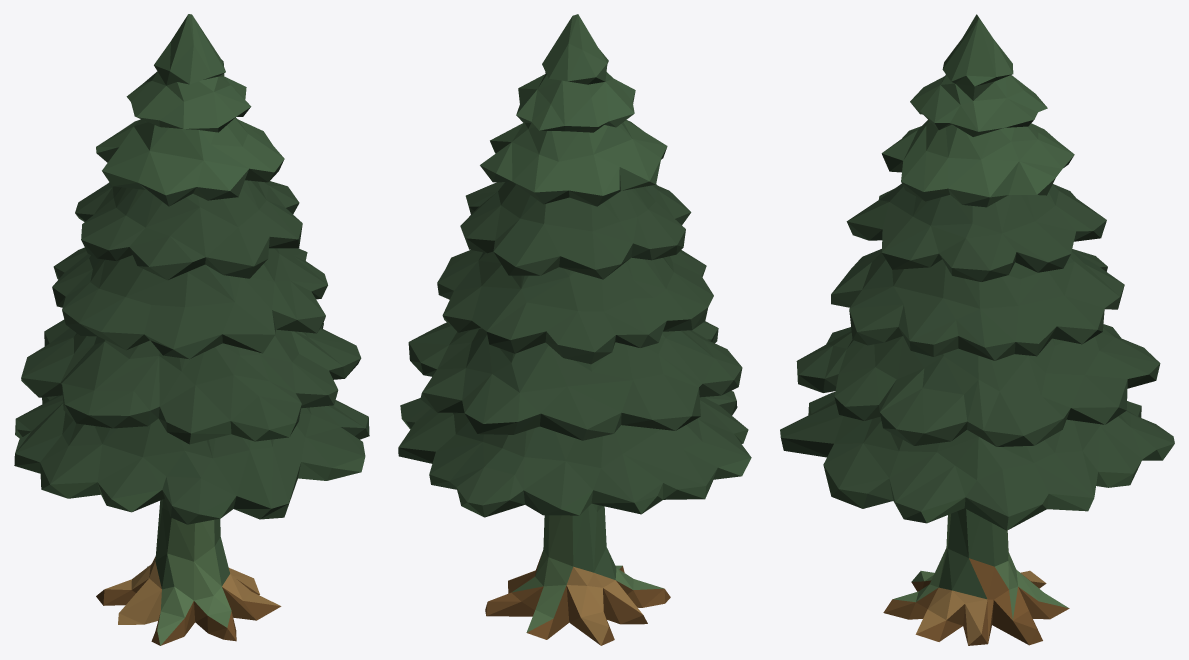
The model's file is prop_fir.glb.
The picture shows the model from 3 angles, left to right: view 1: azimuth 30°, elevation 25°; view 2: azimuth 150°, elevation 25°; view 3: azimuth 270°, elevation 25°; orthographic projection.
Visible parts, largest first — view 1: LeafCanopy, Trunk; view 2: LeafCanopy, Trunk; view 3: LeafCanopy, Trunk.
Part boxes in pixels (x1,y1,x2,y2): LeafCanopy: (14,14,369,645); Trunk: (96,556,281,645); LeafCanopy: (398,14,751,632); Trunk: (485,552,670,645); LeafCanopy: (780,14,1174,620); Trunk: (883,558,1069,645).
Bounding box in the file's own units: 0.5599 × 1 × 0.5972.
